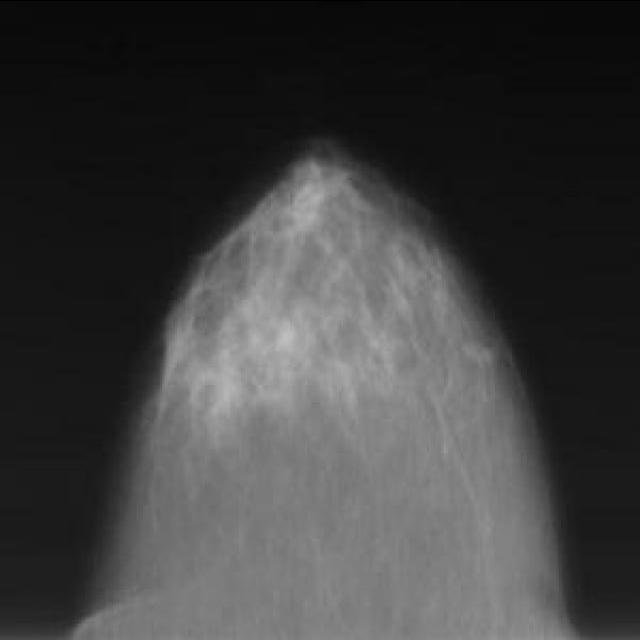tumor: (167, 280, 396, 420), (271, 154, 350, 232)
